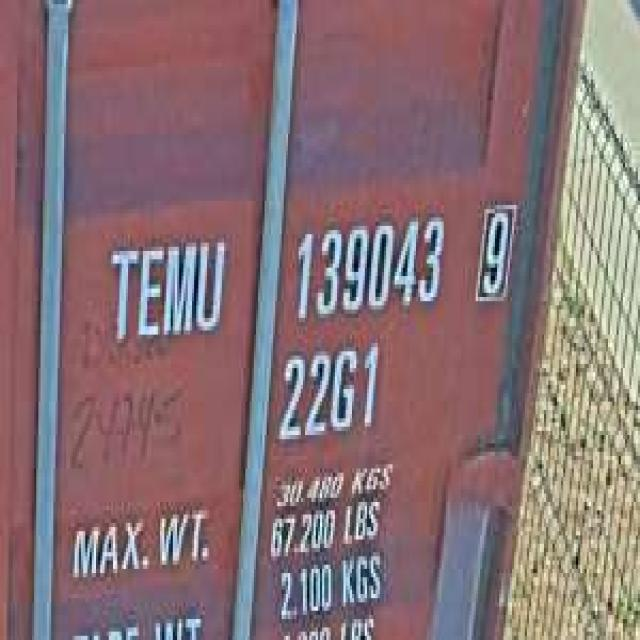dv: (472, 188, 518, 314)
owner: (102, 222, 228, 356)
serial: (286, 201, 448, 326)
size: (273, 339, 384, 452)
